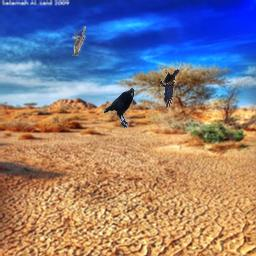Crow: (104, 88, 134, 128), (160, 69, 180, 109)
Cuckoo: (72, 26, 86, 56)
